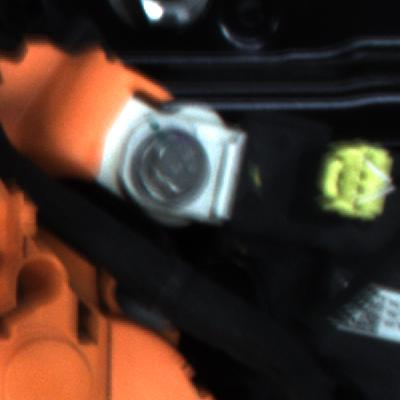nut_b: (122, 121, 215, 218)
